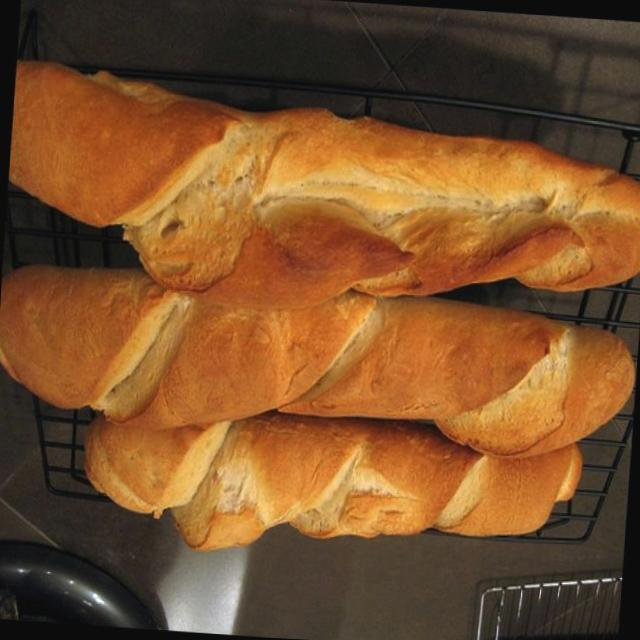Bread: (0, 53, 640, 575)
